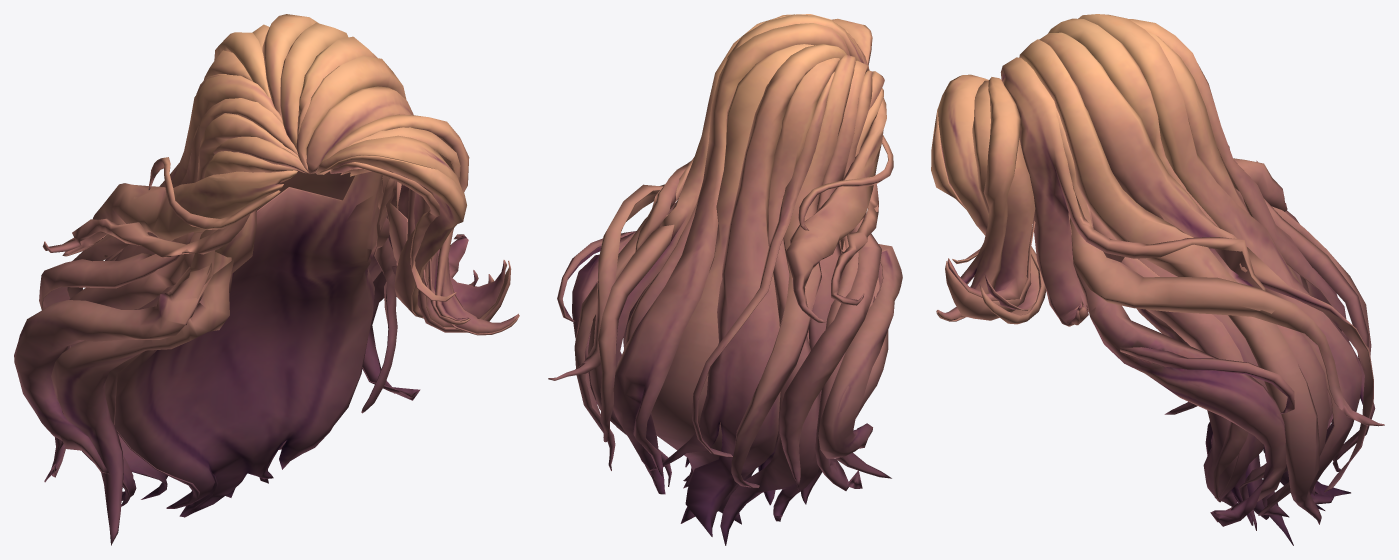
Rendered from mh_culturalibre_hair_17.glb.
The picture shows the model from 3 angles, left to right: view 1: azimuth 30°, elevation 25°; view 2: azimuth 150°, elevation 25°; view 3: azimuth 270°, elevation 25°; orthographic projection. The views are drawn at different scales.
Visible parts, largest first — view 1: mh_culturalibre_hair_17; view 2: mh_culturalibre_hair_17; view 3: mh_culturalibre_hair_17.
Part boxes in pixels (x1=…): mh_culturalibre_hair_17: x1=14, y1=14, x2=519, y2=545; mh_culturalibre_hair_17: x1=548, y1=14, x2=902, y2=545; mh_culturalibre_hair_17: x1=931, y1=14, x2=1384, y2=545.
Bounding box in the file's own units: 0.4175 × 0.5792 × 0.4697.
Materials: 1 (1 with a texture image).
